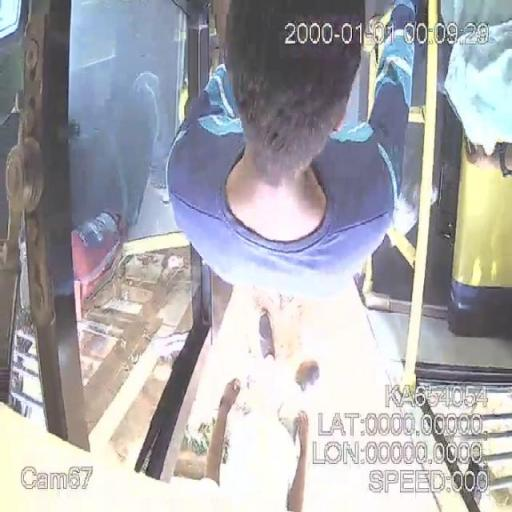persona: (165, 1, 416, 296), (210, 305, 322, 512)
